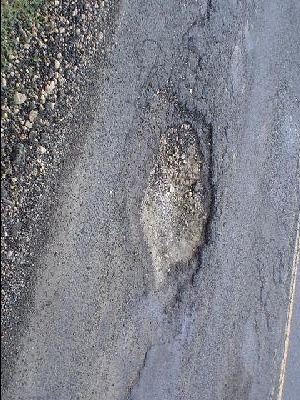pothole: (132, 89, 219, 314)
